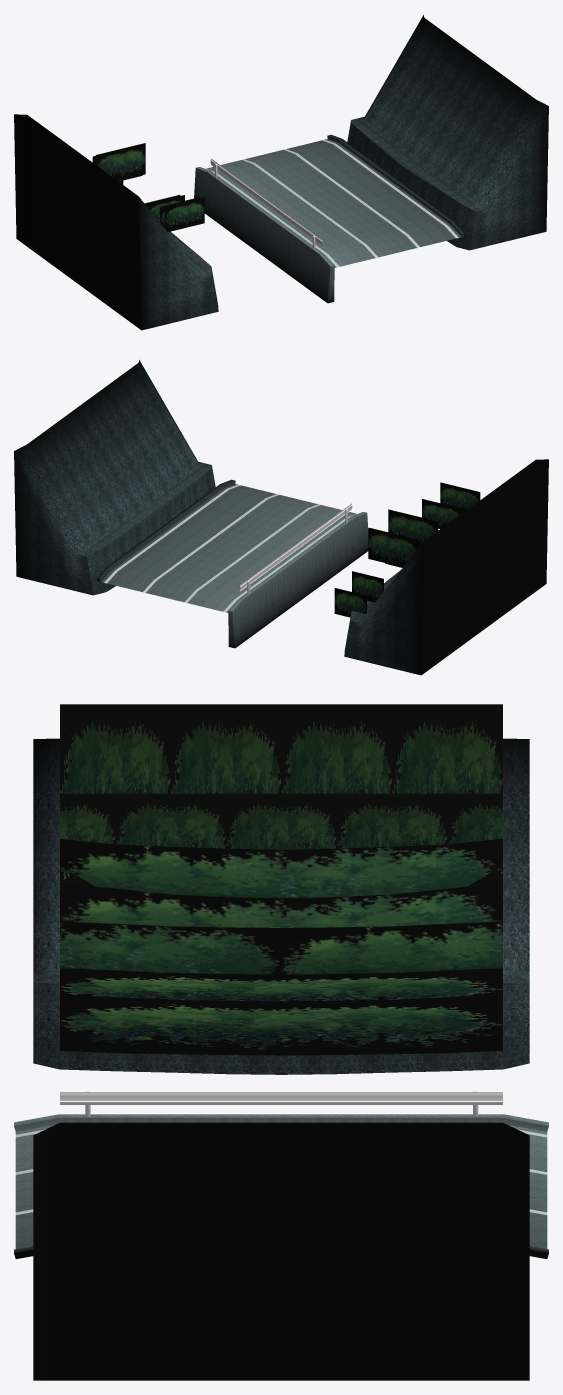
The model's file is K_MOUNT_RORD_50.glb.
3 renders of one model, top to bottom at view 1: azimuth 30°, elevation 25°; view 2: azimuth 150°, elevation 25°; view 3: azimuth 270°, elevation 25°, orthographic. The views are drawn at different scales.
Visible parts, largest first — view 1: obj11, bone2, bone6; view 2: obj11, bone2, bone6, bone0; view 3: obj11.
Part boxes in pixels (<box>): obj11: <box>14,15,548,330</box>; bone2: <box>92,143,145,181</box>; bone6: <box>160,197,204,231</box>; obj11: <box>14,360,548,675</box>; bone2: <box>368,509,437,567</box>; bone6: <box>422,482,480,529</box>; bone0: <box>334,571,383,617</box>; obj11: <box>14,704,548,1380</box>.
Bounding box in the file's own units: 106 × 38.74 × 60.39.
12 materials, 12 textured.
